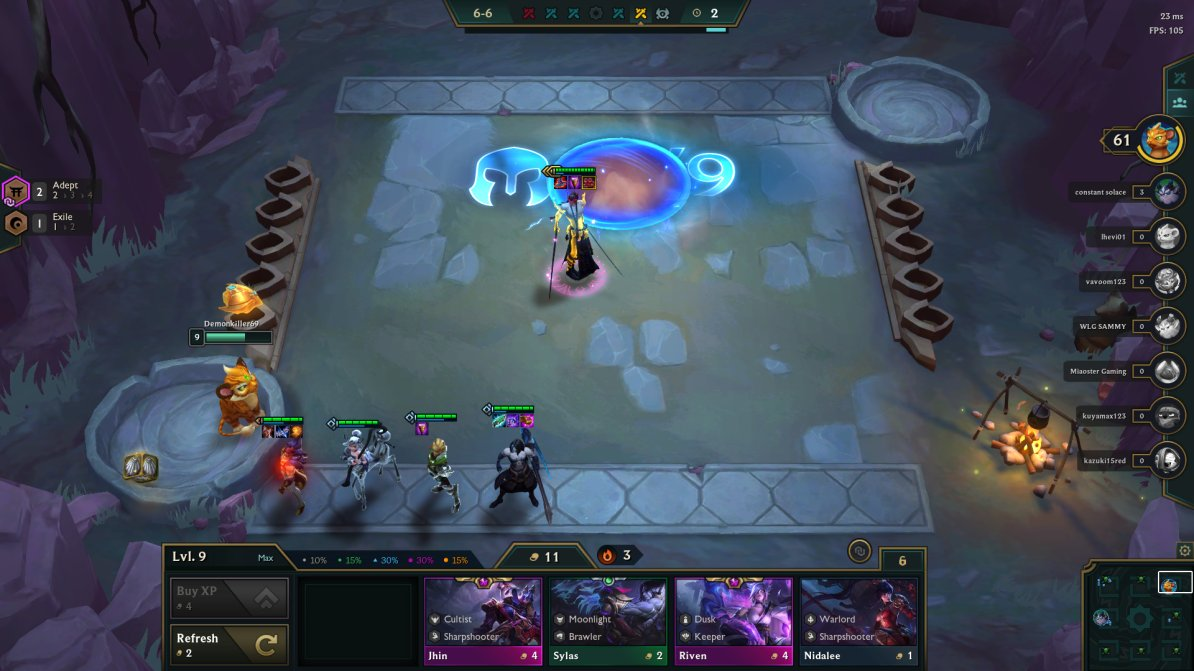1star_sett: (247, 403, 318, 527)
2star_ezreal: (400, 404, 470, 528)
2star_kaynblue: (475, 396, 561, 532)
2star_lillia: (322, 402, 404, 524)
3star_yone: (537, 159, 627, 310)
3star_yone_chosen: (535, 157, 625, 308)
item_chalice: (563, 171, 584, 192), (411, 416, 431, 438)
item_gunblade: (490, 408, 510, 430)
item_hoj: (288, 422, 305, 441)
item_jeweledgauntlet: (517, 409, 537, 431)
item_luden: (503, 408, 523, 430)
item_rabadon: (552, 172, 569, 190)
item_spark: (272, 420, 289, 439)
item_thief: (580, 173, 598, 190)
item_zeke: (259, 421, 275, 440)
trait_adept2: (1, 173, 112, 211)
trait_adept_chosen: (1, 170, 33, 210)
trait_exile1: (1, 202, 112, 240)
